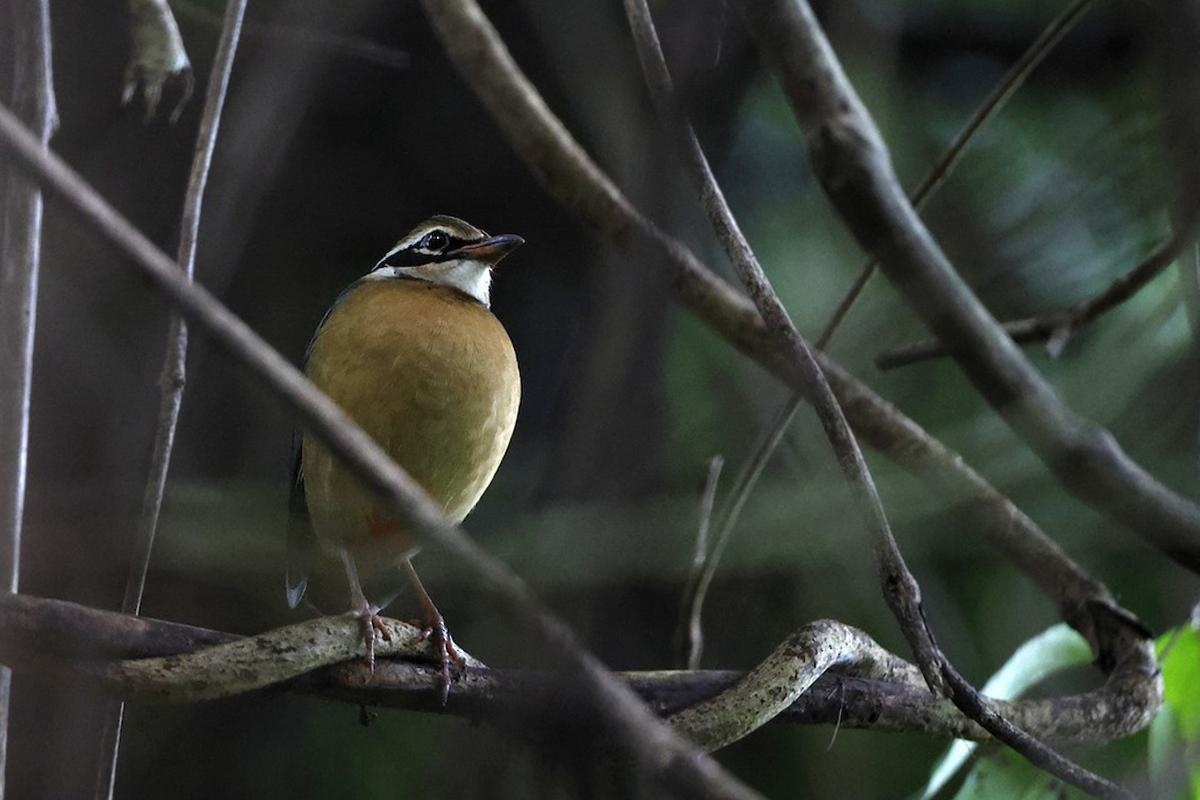pitta: (273, 171, 539, 665)
